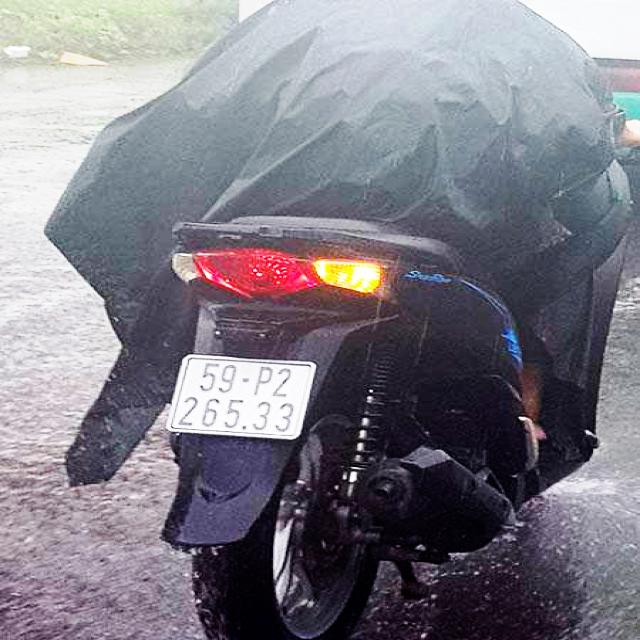license_plate: (170, 354, 313, 436)
